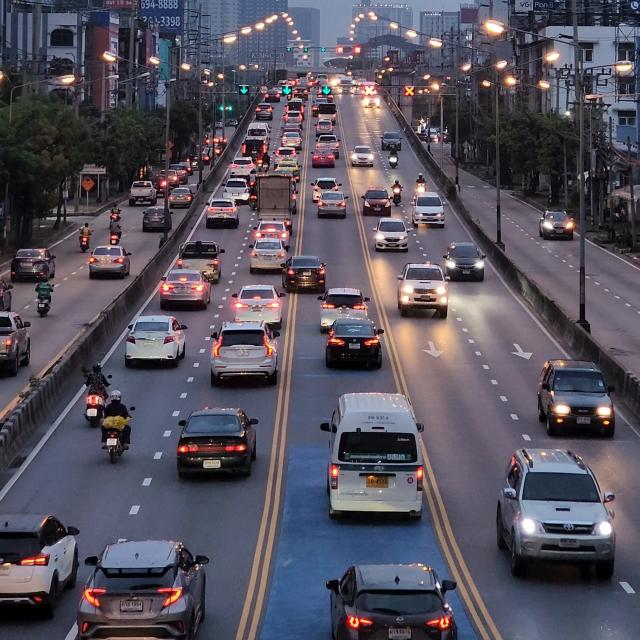Car: (501, 444, 620, 578), (76, 535, 212, 640), (324, 389, 430, 518), (323, 561, 465, 640), (0, 514, 82, 618), (534, 357, 626, 439), (175, 409, 260, 481), (208, 318, 284, 386), (126, 314, 190, 368), (320, 318, 389, 368), (396, 261, 449, 318), (233, 283, 287, 331), (158, 270, 217, 309), (446, 236, 487, 289), (11, 246, 57, 282), (87, 244, 132, 280), (538, 209, 580, 245)
